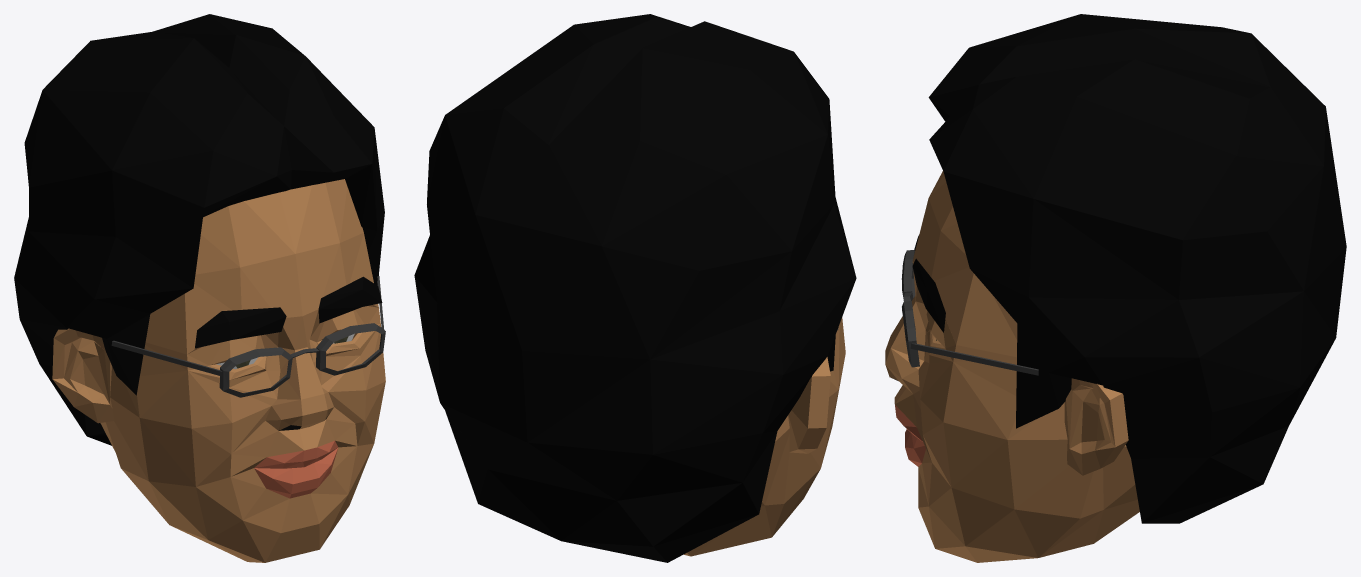
Rendered from kawashima.glb.
3 views of the same model, side by side, from view 1: azimuth 30°, elevation 25°; view 2: azimuth 150°, elevation 25°; view 3: azimuth 270°, elevation 25° (orthographic). The views are drawn at different scales.
Parts seen in each view (by area): view 1: polygon0; view 2: polygon0; view 3: polygon0.
Part boxes in pixels (x1,y1,x2,y2): polygon0: (14,14,385,562); polygon0: (414,14,856,562); polygon0: (885,14,1346,562).
Bounding box in the file's own units: 0.969 × 1.35 × 1.1.
11 materials, 11 textured.
